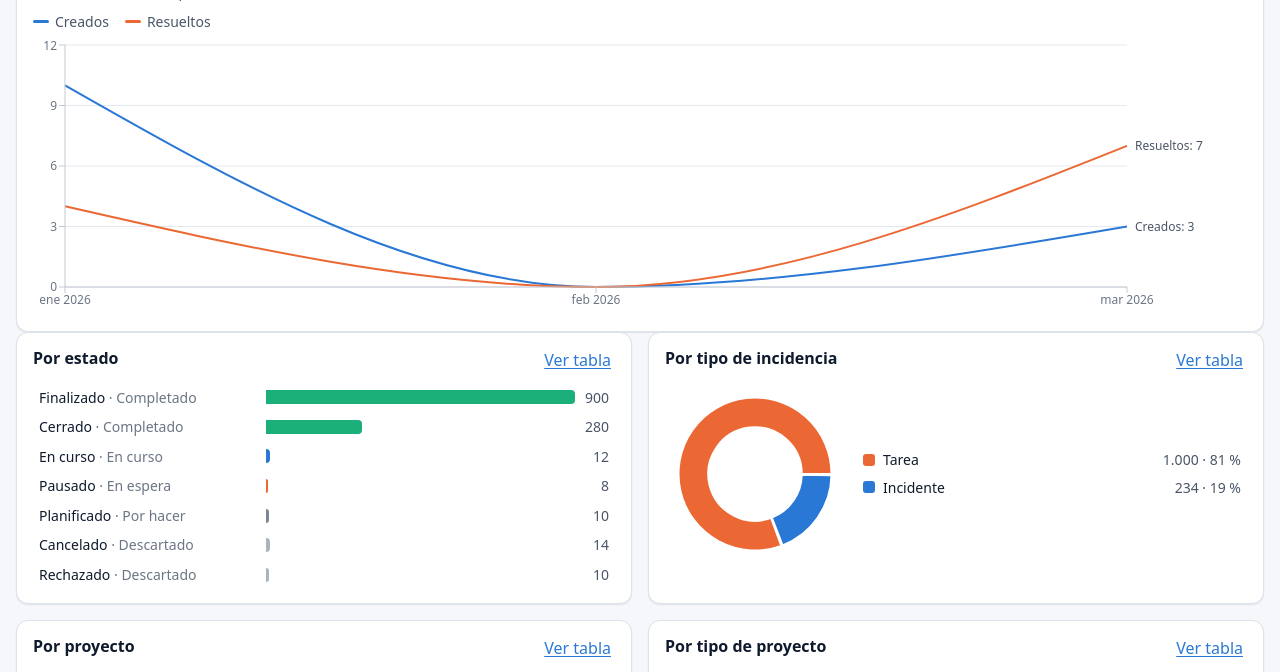
Scenario: gráficos › "Ver tabla" muestra los mismos datos como tabla
(page scrolled)
Check: the heading "Por tipo de incidencia" is shown, box [665,347,838,370]
Click the button "Ver tabla" in the row of "Por tipo de incidencia": (1210, 360) [1172,347,1247,374]
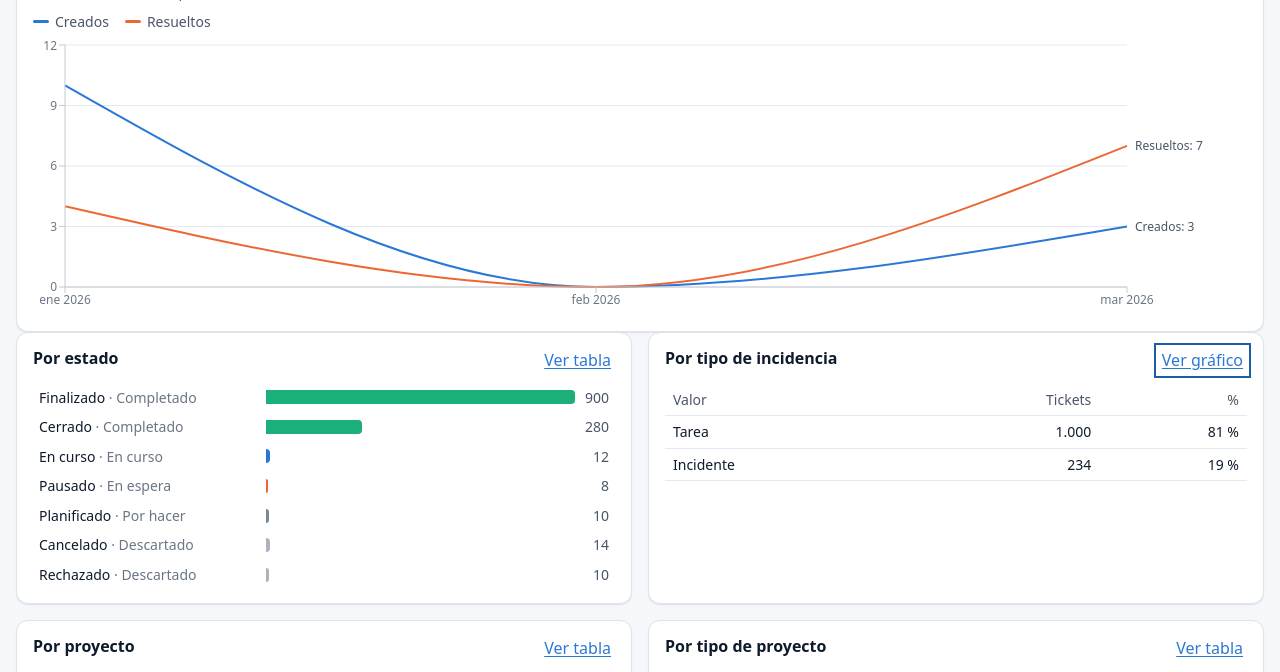
Click the button "Ver gráfico": (1202, 360) [1158,347,1247,374]
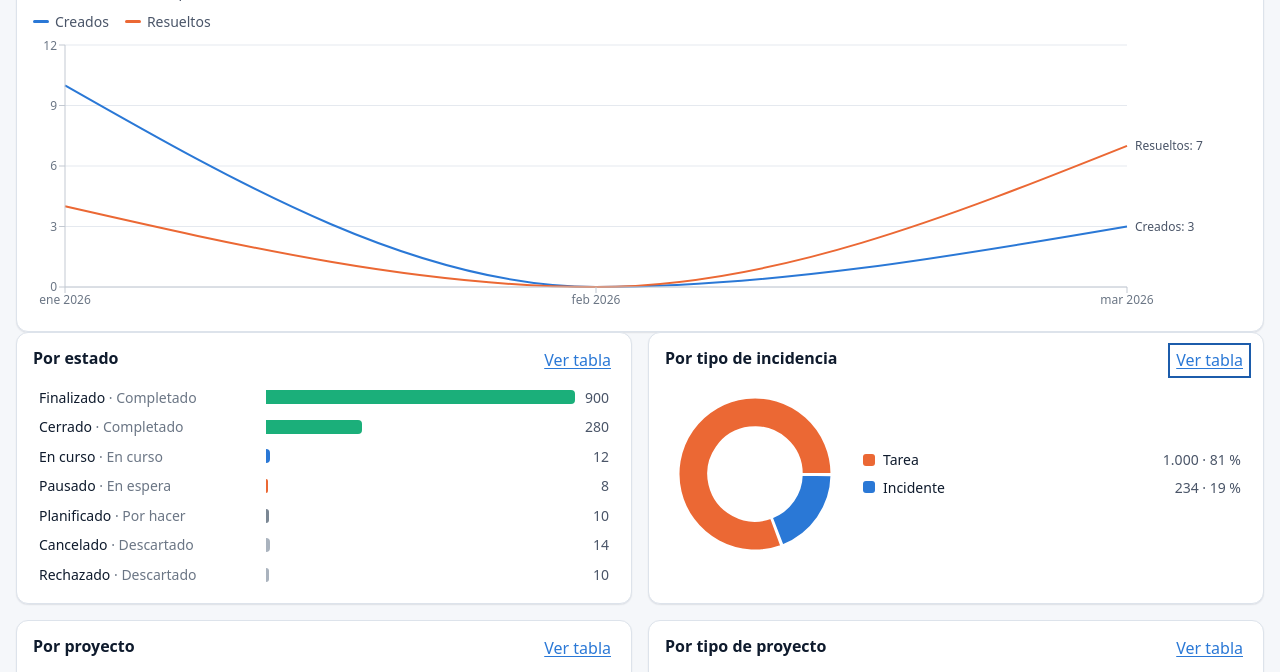
Check: the table is gone
